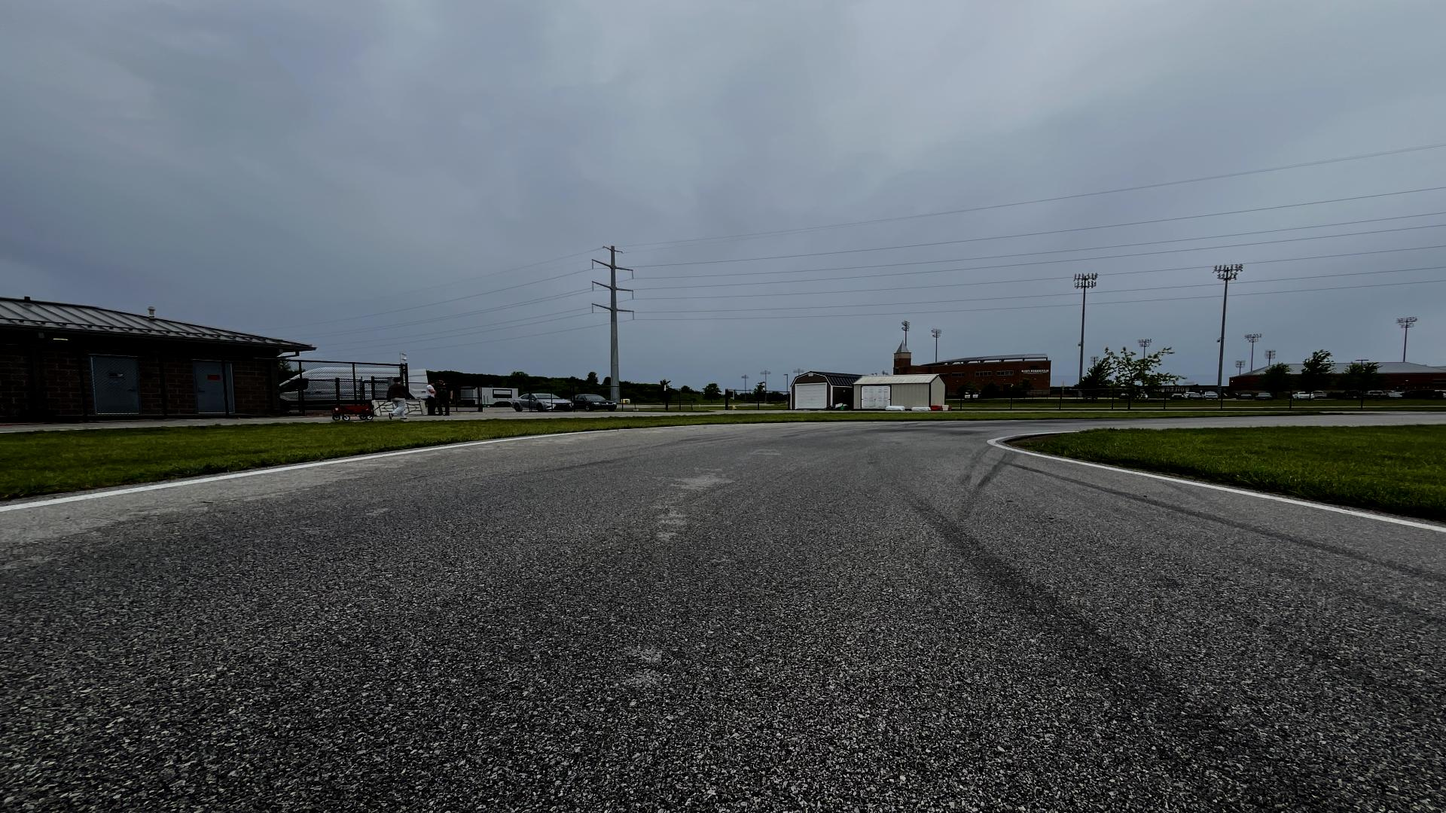white-line: (0, 425, 704, 513), (987, 431, 1445, 532)
